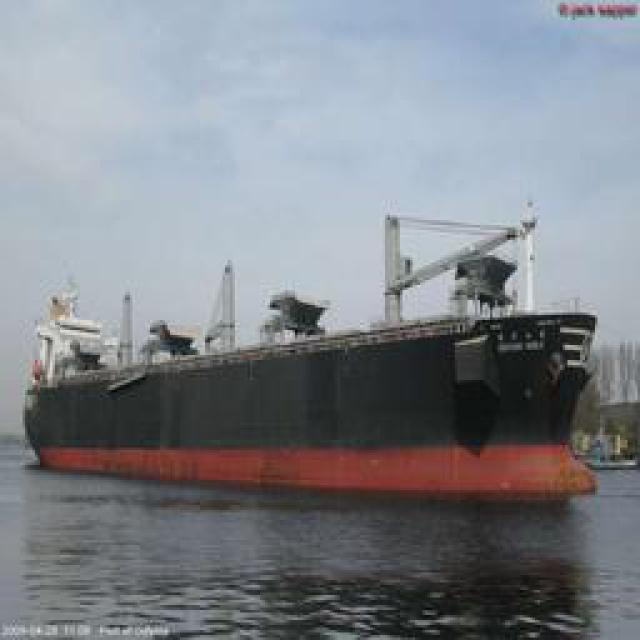Ship: (26, 220, 599, 500)
